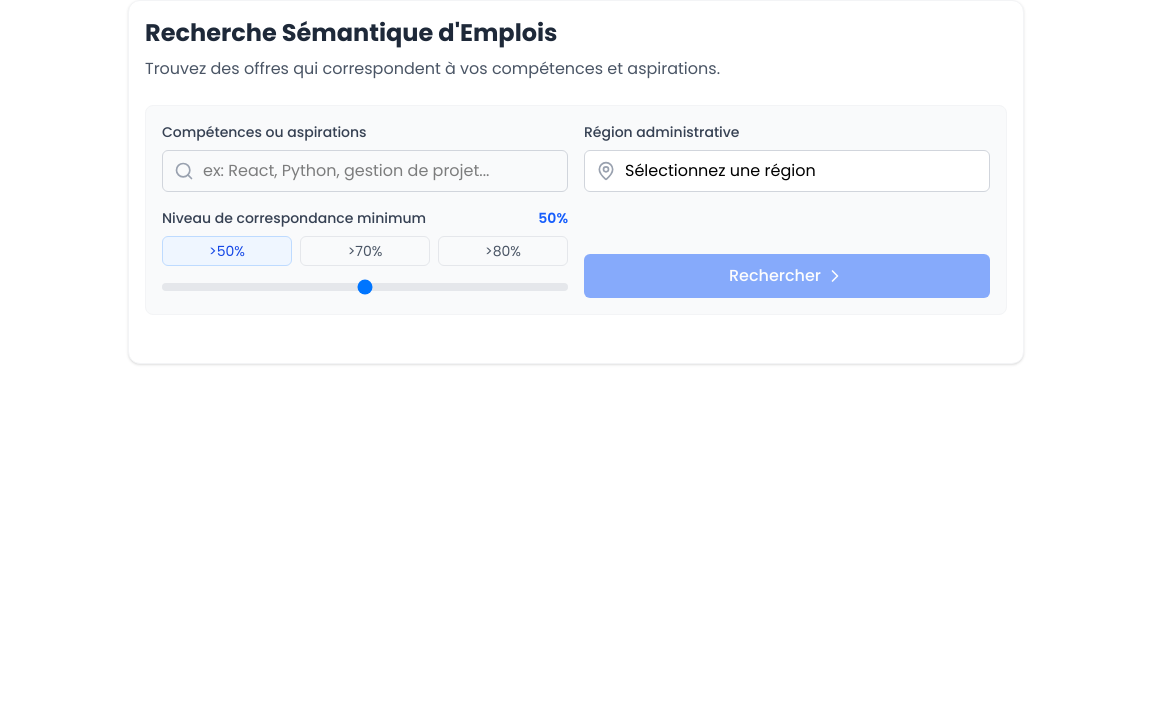
Scenario: JobSemanticMatcher › handles empty state cleanly
Type "No Match Query" into the field with placeholder "ex: React, Python, gestion de projet..." at x=365, y=171, box top-left (162, 150), bottom-right (568, 192)
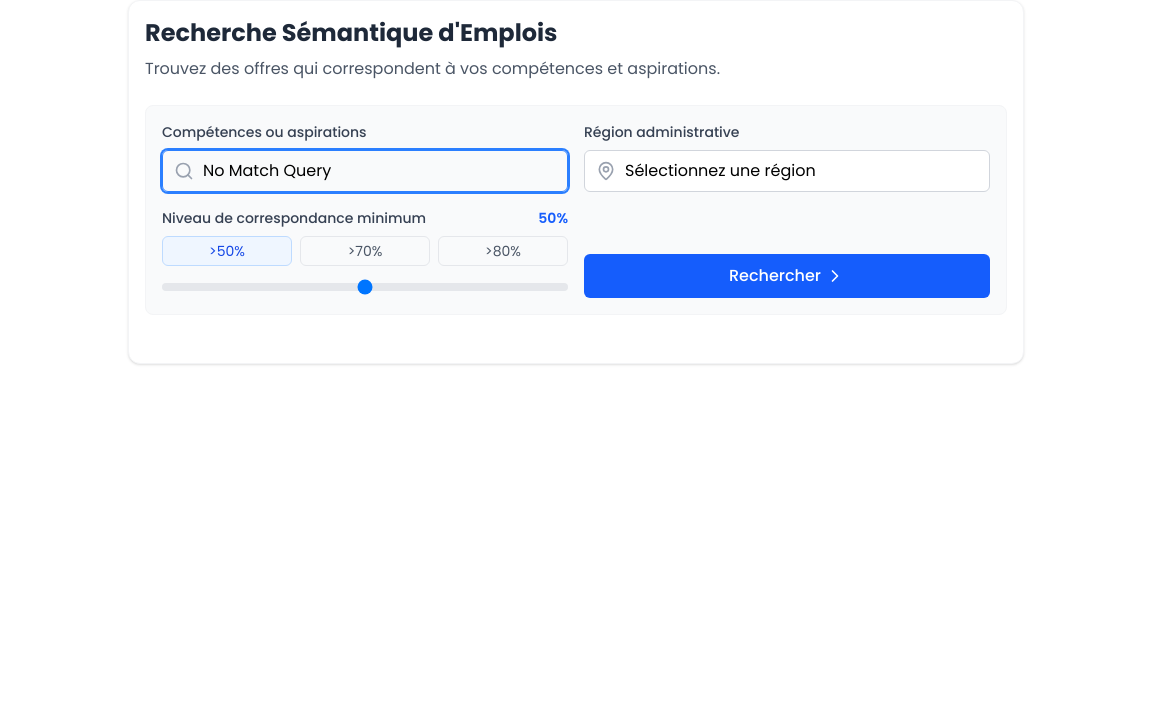
Click the button "Rechercher" at x=787, y=276, box top-left (584, 254), bottom-right (990, 298)
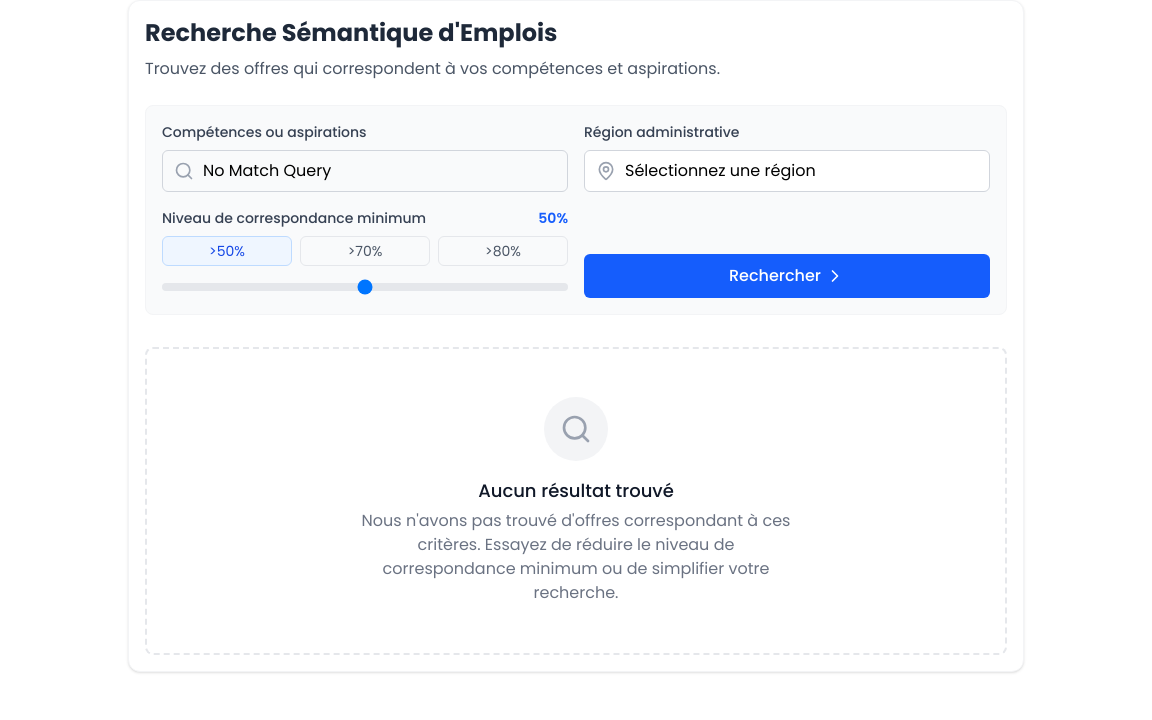
Expected: the heading "Aucun résultat trouvé" is shown, top-left (478, 478), bottom-right (674, 503)
